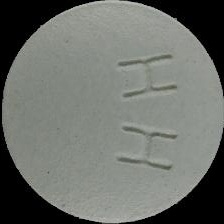43547-270: (0, 0, 224, 224)
